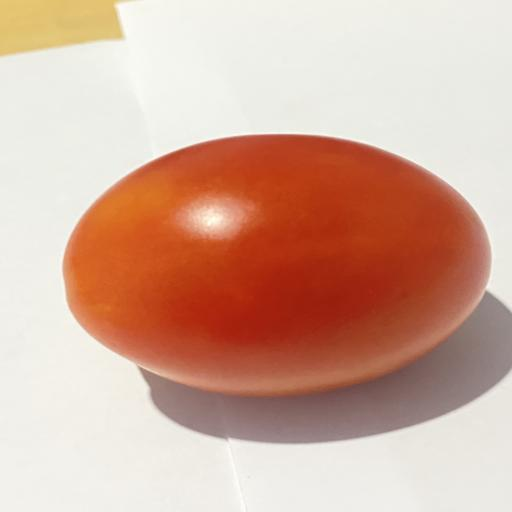ripe: (63, 134, 490, 396)
